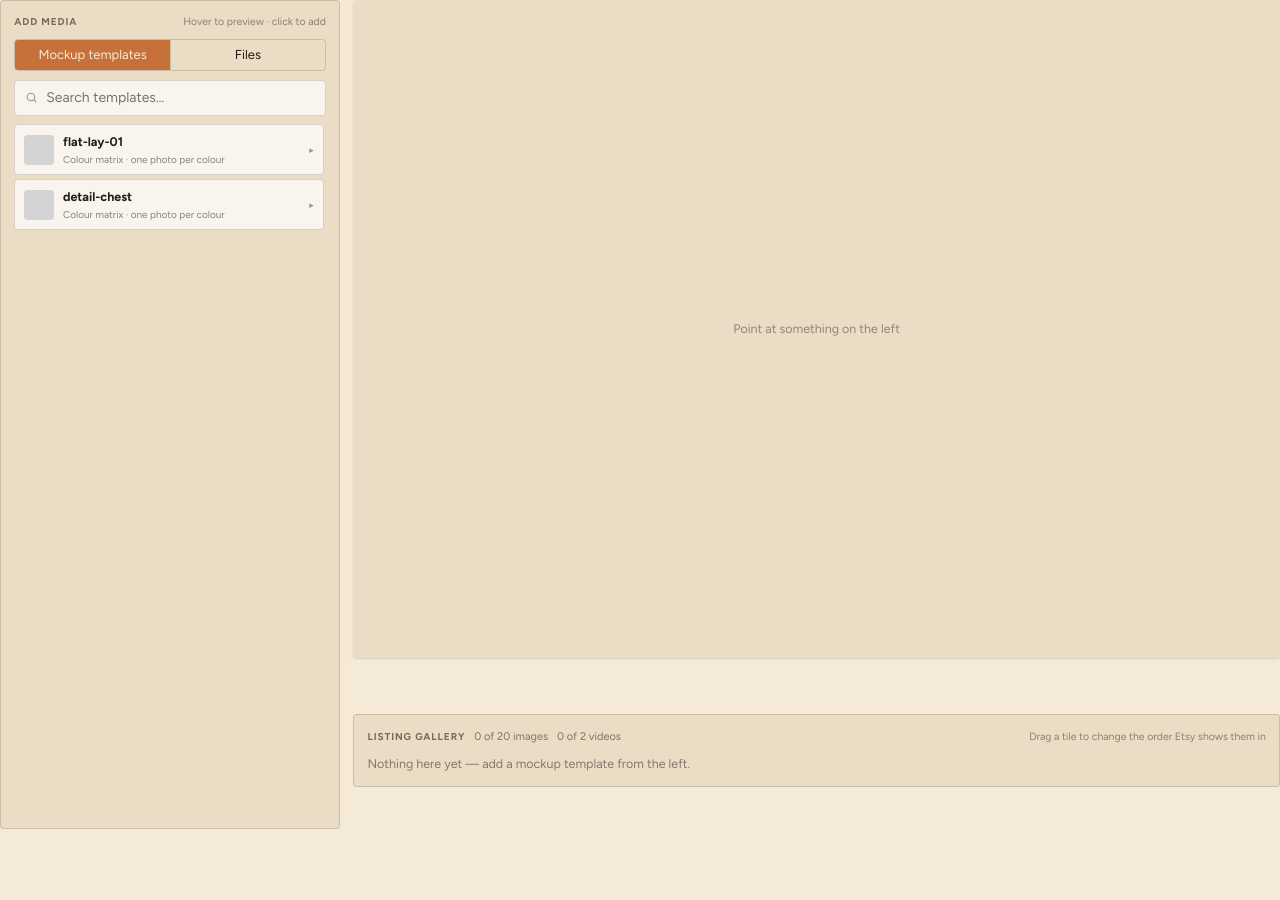
Scenario: ImagesTab's search › filters templates by the search box
Expected: the text "flat-lay-01" is shown, [63,134,123,149]
In the field with placeholder "Search templates…": (170, 98) [14,80,326,116], type "detail"
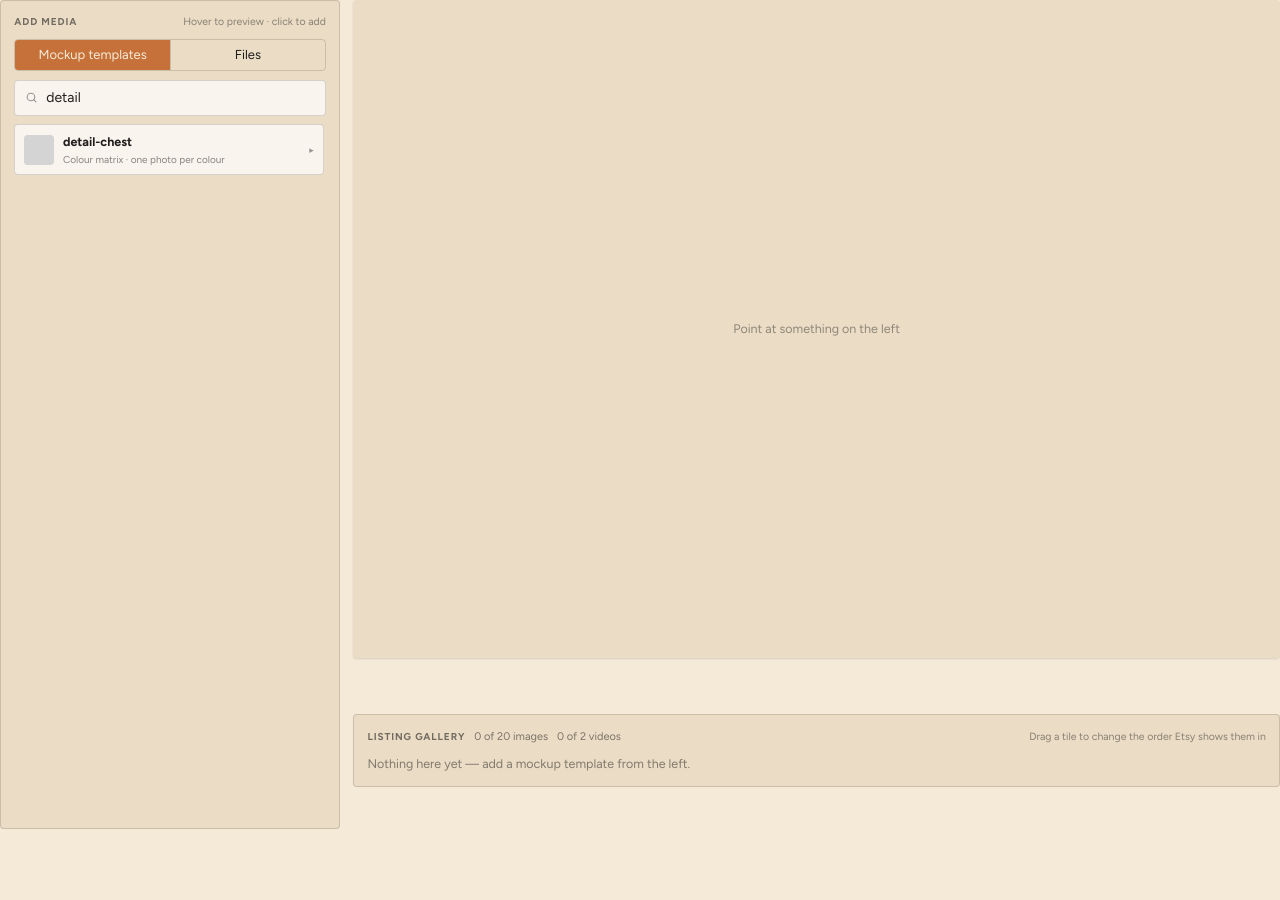
Expected: the text "detail-chest" is shown, [63,134,132,149]
Now the text "flat-lay-01" is gone
